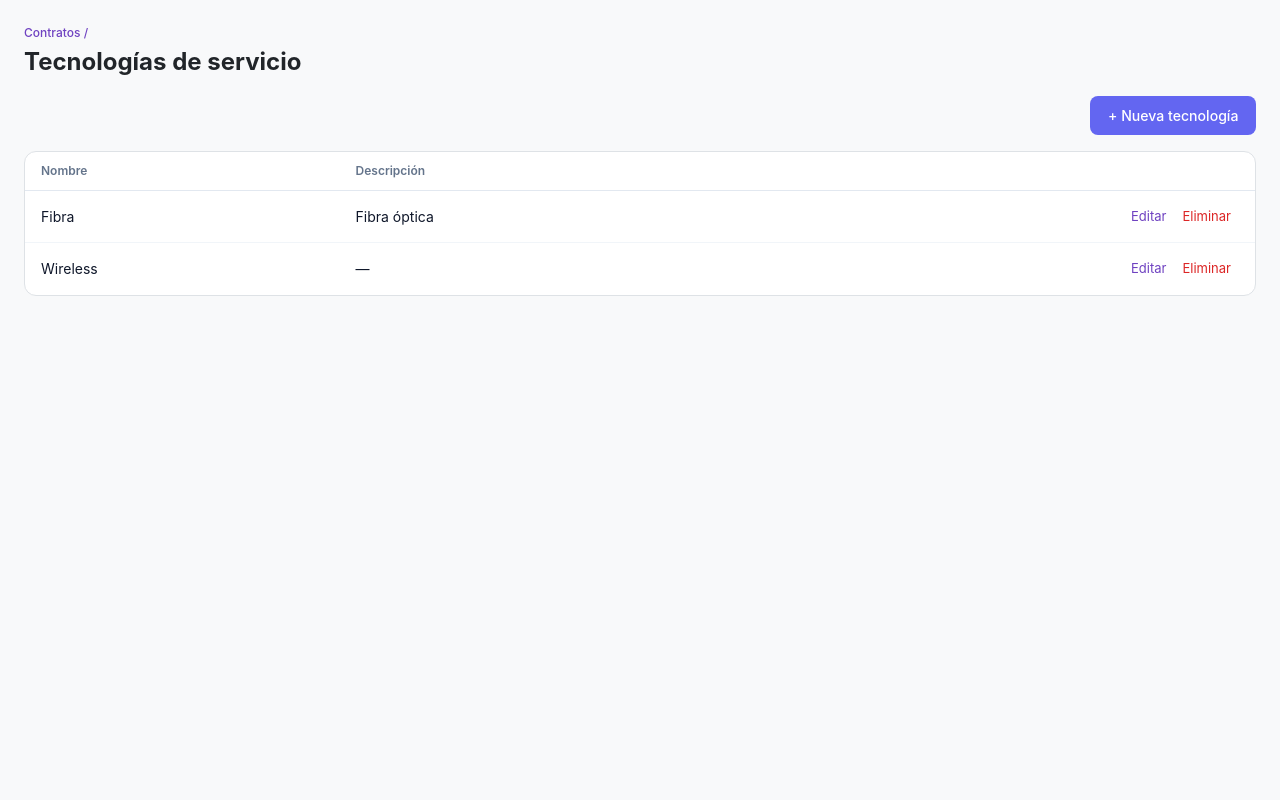
it: CP-7.2: create technology › opens create modal on "+ Nueva tecnología" click
Click the button "+ Nueva tecnología". click: (1173, 115)
box: [1090,96,1256,135]
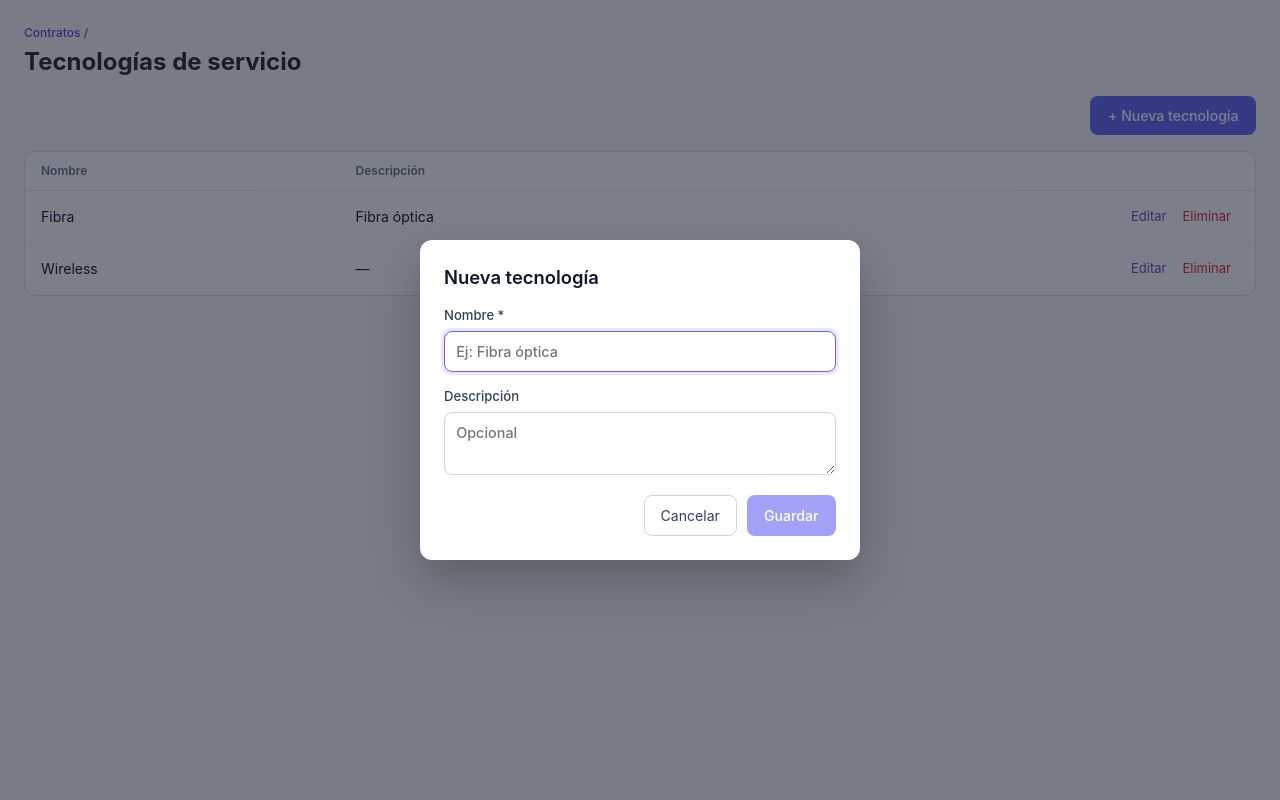
Result: the heading "Nueva tecnología" is shown at [444,266,599,288]
